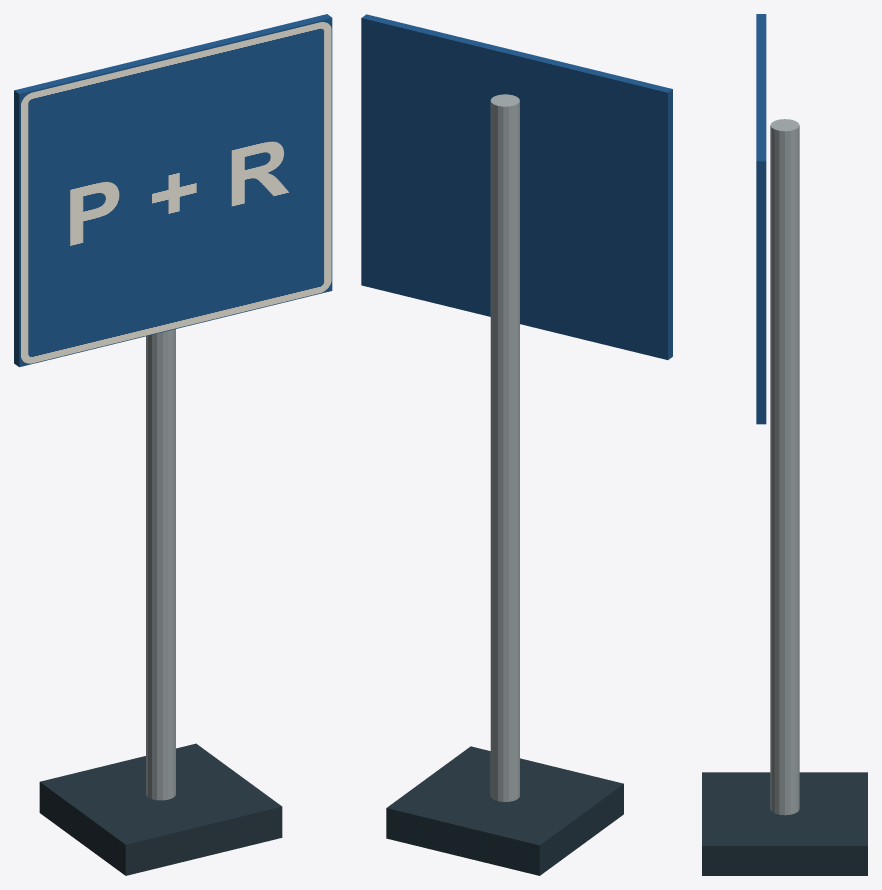
The model's file is scendance-plan-park-and-ride.glb.
3 views of the same model, side by side, from view 1: azimuth 30°, elevation 25°; view 2: azimuth 150°, elevation 25°; view 3: azimuth 270°, elevation 25° (orthographic). The views are drawn at different scales.
Size of the model in its own units: 0.84 by 2 by 0.4.
4 materials, 1 textured.
